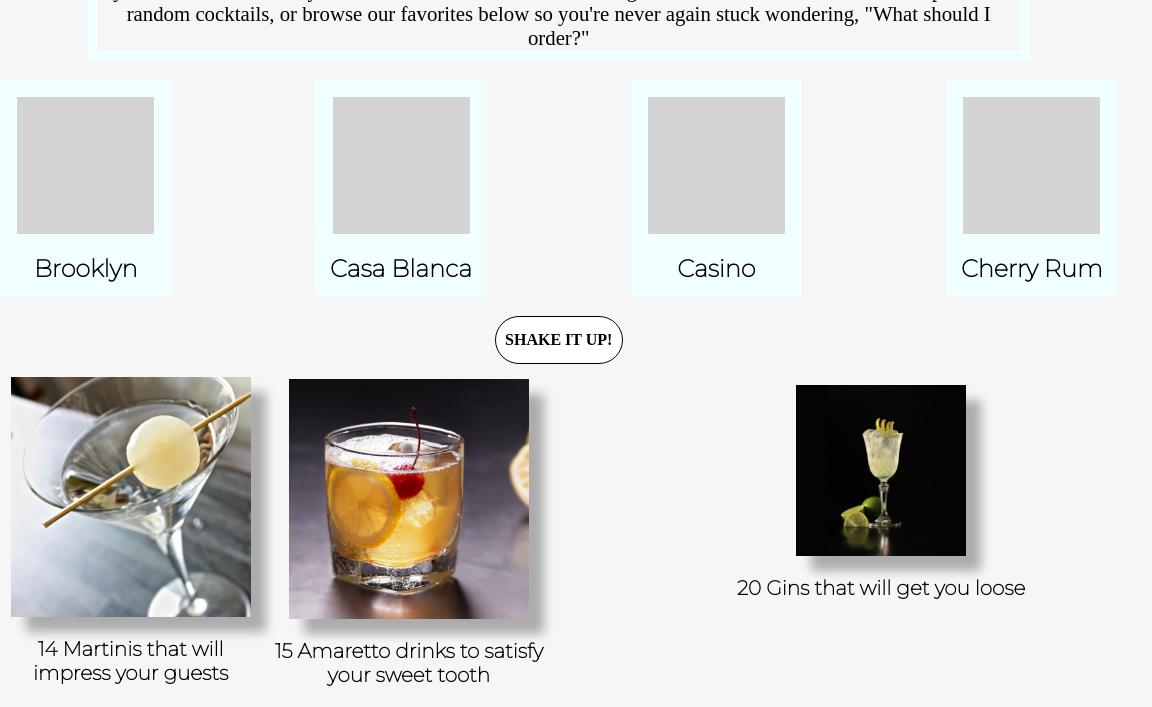
App spec › should be able to click on the Martini drinks container and be routed to a new page
(page scrolled)
Click the element with class "martiniButton". click: (131, 535)
box: [0,364,261,705]
(page scrolled)
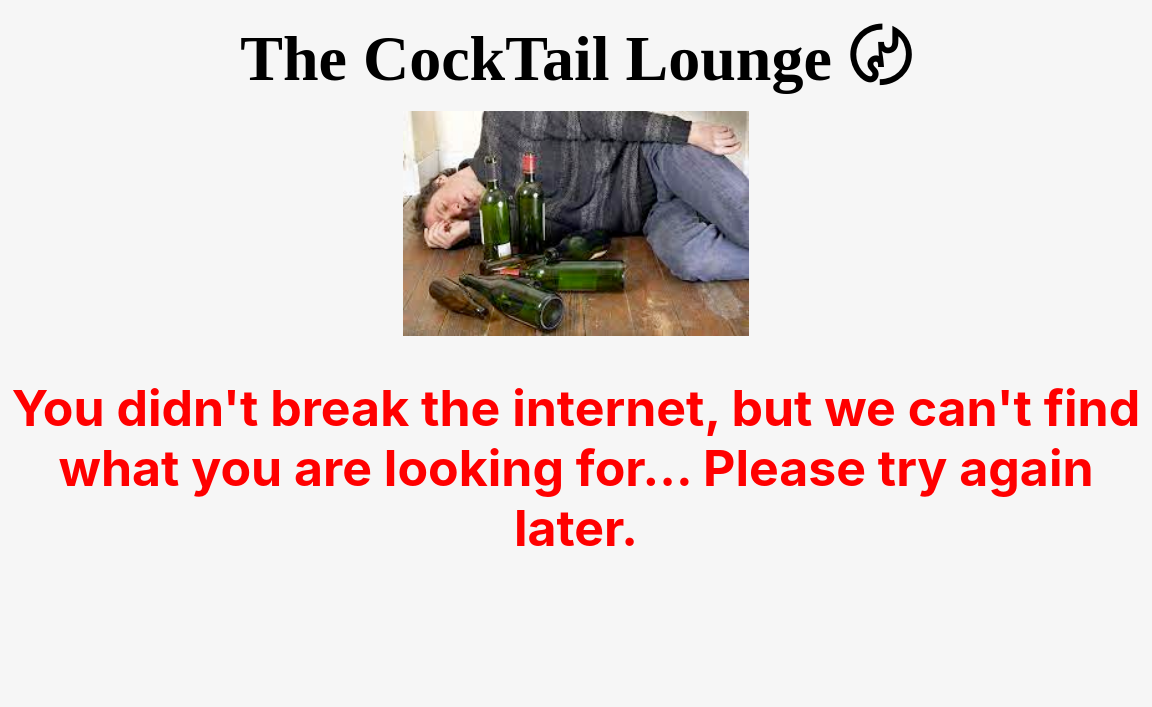
Result: the number of elements with class "martiniContainer" is 1
